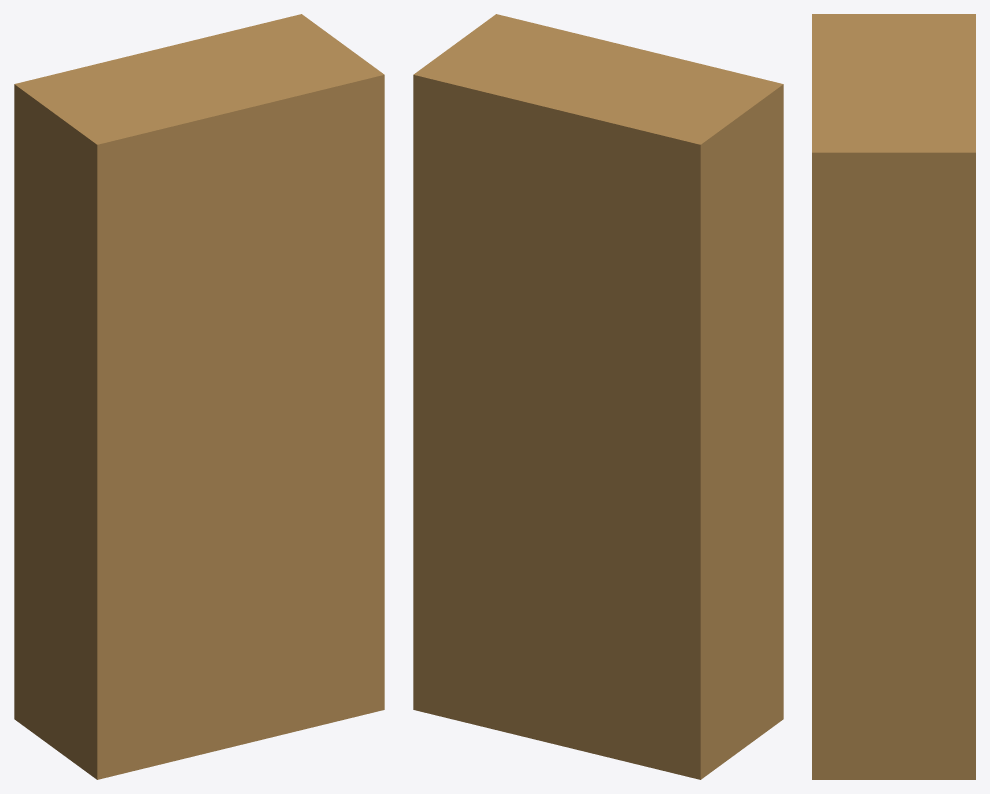
3 renders of one model, left to right at view 1: azimuth 30°, elevation 25°; view 2: azimuth 150°, elevation 25°; view 3: azimuth 270°, elevation 25°, orthographic.
Parts seen in each view (by area): view 1: GAP-13-R-king_stud-p2; view 2: GAP-13-R-king_stud-p2; view 3: GAP-13-R-king_stud-p2.
Part boxes in pixels (x1,y1,x2,y2): GAP-13-R-king_stud-p2: (14,14,384,779); GAP-13-R-king_stud-p2: (413,14,783,779); GAP-13-R-king_stud-p2: (812,14,975,779).
Bounding box in the file's own units: 0.09 × 0.19 × 0.045.
